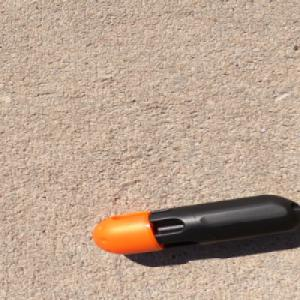PlasticPart: (90, 194, 300, 255)
